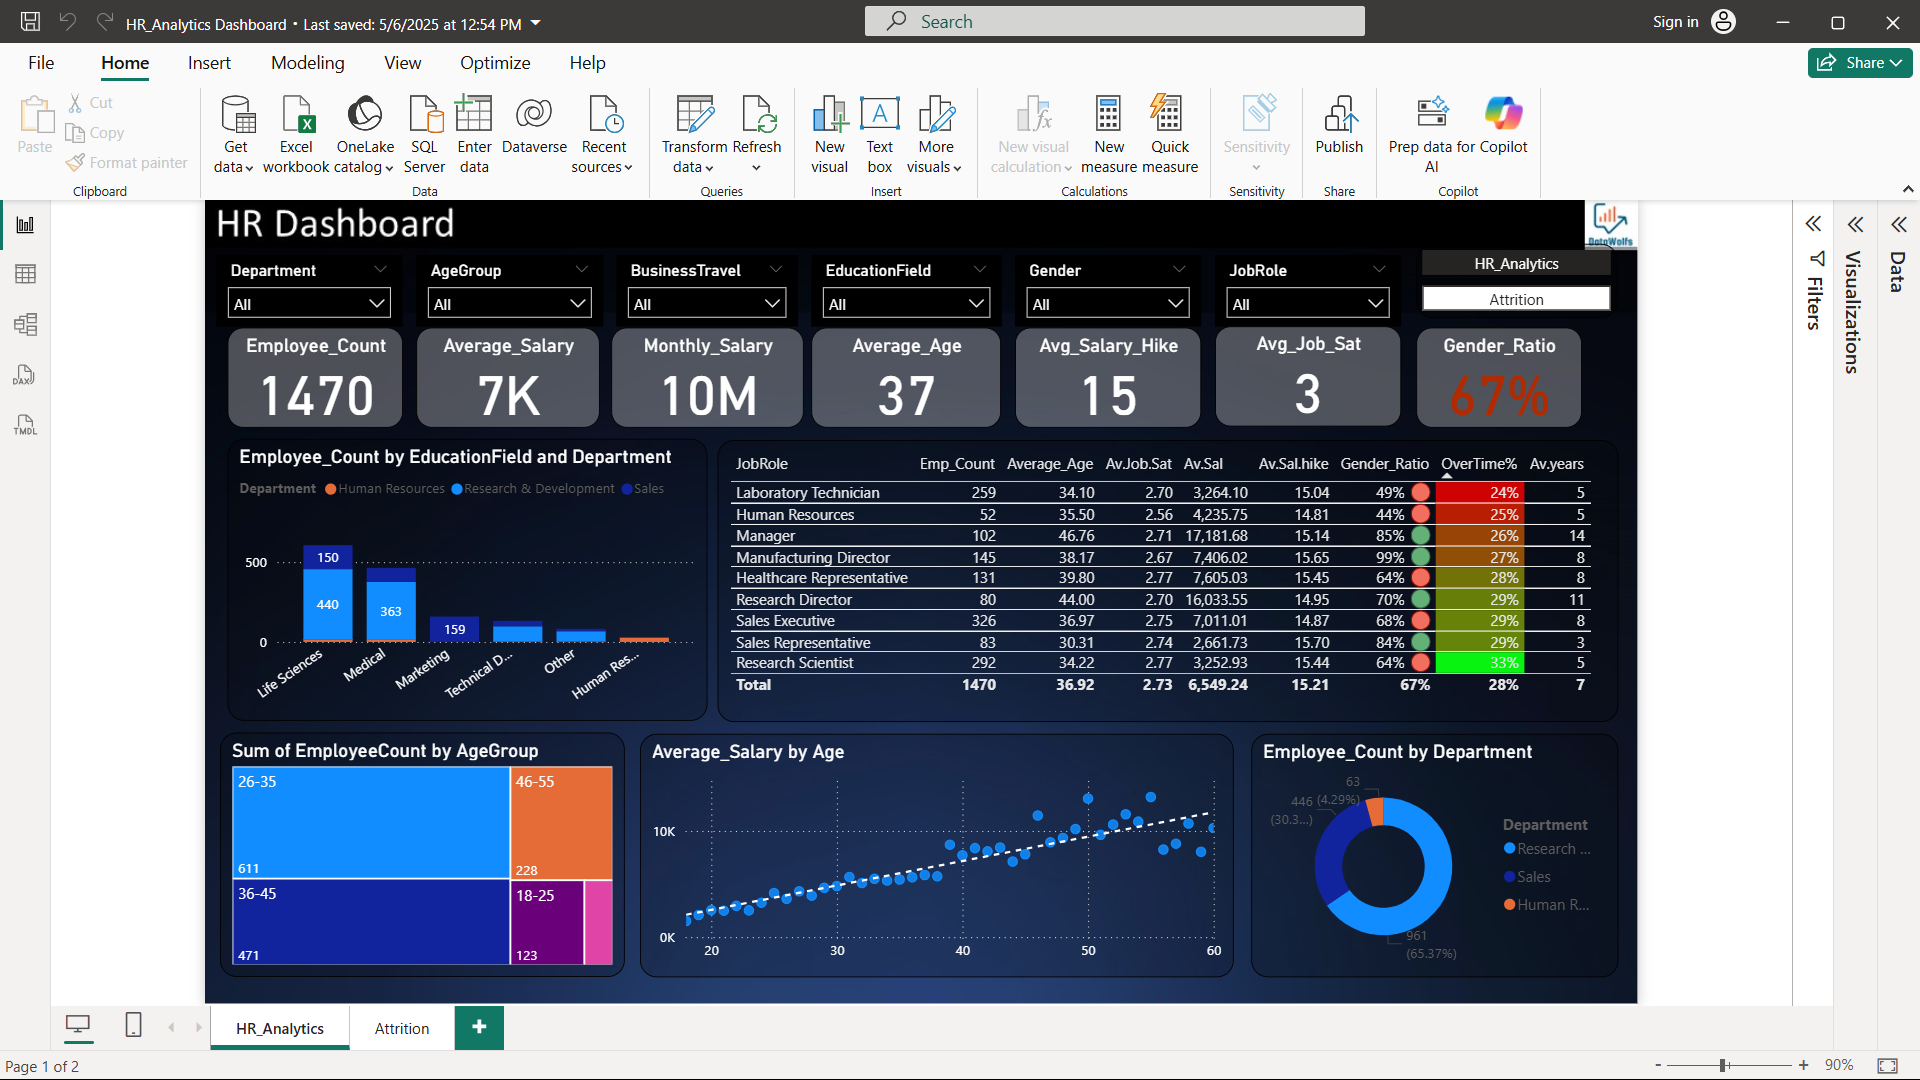

The page's visual inventory and layout, read from the dashboard file:
{"tool":"powerbi","page":{"name":"HR_Analytics","canvas":[1280,720],"ordinal":0},"visuals":[{"type":"slicer","fields":{"Values":["HR_Analytics.Department"]},"box":[10,49,166,64],"z":0},{"type":"card","title":"Employee_Count","fields":{"Values":["HR_Analytics.Employee_Count"]},"box":[19.8,113.9,157,89.5],"z":1000},{"type":"slicer","fields":{"Values":["HR_Analytics.AgeGroup"]},"box":[188.2,49,167,64],"z":3000},{"type":"slicer","fields":{"Values":["HR_Analytics.JobRole"]},"box":[902,49,166,64],"z":4000},{"type":"slicer","fields":{"Values":["HR_Analytics.EducationField"]},"box":[541.6,49,170,64],"z":5000},{"type":"slicer","fields":{"Values":["HR_Analytics.BusinessTravel"]},"box":[367.4,49,162,64],"z":6000},{"type":"slicer","fields":{"Values":["HR_Analytics.Gender"]},"box":[723.8,49,166,64],"z":7000},{"type":"card","title":"Average_Salary","fields":{"Values":["HR_Analytics.Average_Salary"]},"box":[188.4,113.9,164,89.5],"z":8000},{"type":"card","title":"Monthly_Salary","fields":{"Values":["HR_Analytics.Monthly_Salary"]},"box":[362.8,113.9,172.1,89.5],"z":9000},{"type":"card","title":"Average_Age","fields":{"Values":["HR_Analytics.Average_Age"]},"box":[541.9,113.9,169.8,89.5],"z":10000},{"type":"card","title":"Avg_Job_Sat","fields":{"Values":["HR_Analytics.Average Job Satisfaction"]},"box":[902.3,112.8,166.3,89.5],"z":11000},{"type":"card","title":"Avg_Salary_Hike","fields":{"Values":["HR_Analytics.Average_Salary_Hike"]},"box":[723.3,114,166.3,89.5],"z":12000},{"type":"card","title":"Gender_Ratio","fields":{"Values":["HR_Analytics.Gender_Ratio"]},"box":[1082.6,113.9,147.7,89.5],"z":13000},{"type":"columnChart","fields":{"Y":["HR_Analytics.Employee_Count"],"Category":["HR_Analytics.EducationField"],"Series":["HR_Analytics.Department"]},"box":[19.8,212.8,429.1,252.3],"z":14000},{"type":"treemap","fields":{"Values":["Sum(HR_Analytics.EmployeeCount)"],"Group":["HR_Analytics.AgeGroup"]},"box":[14,475.6,361.6,218.6],"z":15000},{"type":"donutChart","fields":{"Y":["HR_Analytics.Employee_Count"],"Category":["HR_Analytics.Department"]},"box":[934.9,476.7,327.9,217.4],"z":16000},{"type":"tableEx","fields":{"Values":["HR_Analytics.JobRole","HR_Analytics.Employee_Count","HR_Analytics.Average_Age","HR_Analytics.Average Job Satisfaction","HR_Analytics.Average_Salary","HR_Analytics.Average_Salary_Hike","HR_Analytics.Gender_Ratio","HR_Analytics.OverTime%","HR_Analytics.Average_Years"]},"box":[458.1,214,804.7,252.3],"z":17000},{"type":"scatterChart","fields":{"X":["HR_Analytics.Age"],"Y":["HR_Analytics.Average_Salary"]},"box":[388.4,476.7,530.2,217.4],"z":18000},{"type":"pageNavigator","box":[1082.6,39.5,180.2,66.3],"z":18001}]}

Visuals, with their boxes on the page's 1280x720 design canvas (x1, y1, x2, y2). These are canvas units, not pixel positions in the 1920x1080 screenshot, which may show the page scaled, cropped or inside an application window:
slicer - HR_Analytics.Department: 10, 49, 176, 113
"Employee_Count" card: 20, 114, 177, 203
slicer - HR_Analytics.AgeGroup: 188, 49, 355, 113
slicer - HR_Analytics.JobRole: 902, 49, 1068, 113
slicer - HR_Analytics.EducationField: 542, 49, 712, 113
slicer - HR_Analytics.BusinessTravel: 367, 49, 529, 113
slicer - HR_Analytics.Gender: 724, 49, 890, 113
"Average_Salary" card: 188, 114, 352, 203
"Monthly_Salary" card: 363, 114, 535, 203
"Average_Age" card: 542, 114, 712, 203
"Avg_Job_Sat" card: 902, 113, 1069, 202
"Avg_Salary_Hike" card: 723, 114, 890, 204
"Gender_Ratio" card: 1083, 114, 1230, 203
columnChart - HR_Analytics.Employee_Count x HR_Analytics.EducationField: 20, 213, 449, 465
treemap - Sum(HR_Analytics.EmployeeCount) x HR_Analytics.AgeGroup: 14, 476, 376, 694
donutChart - HR_Analytics.Employee_Count x HR_Analytics.Department: 935, 477, 1263, 694
tableEx - HR_Analytics.JobRole x HR_Analytics.Employee_Count: 458, 214, 1263, 466
scatterChart - HR_Analytics.Age x HR_Analytics.Average_Salary: 388, 477, 919, 694
pageNavigator: 1083, 40, 1263, 106
